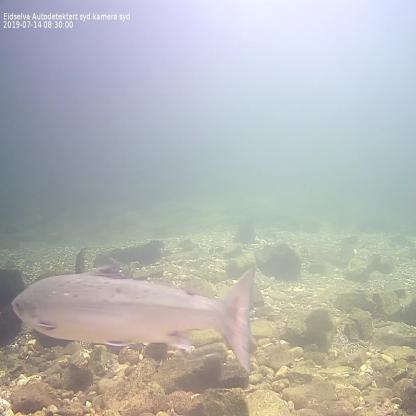salmon: (8, 256, 260, 376)
